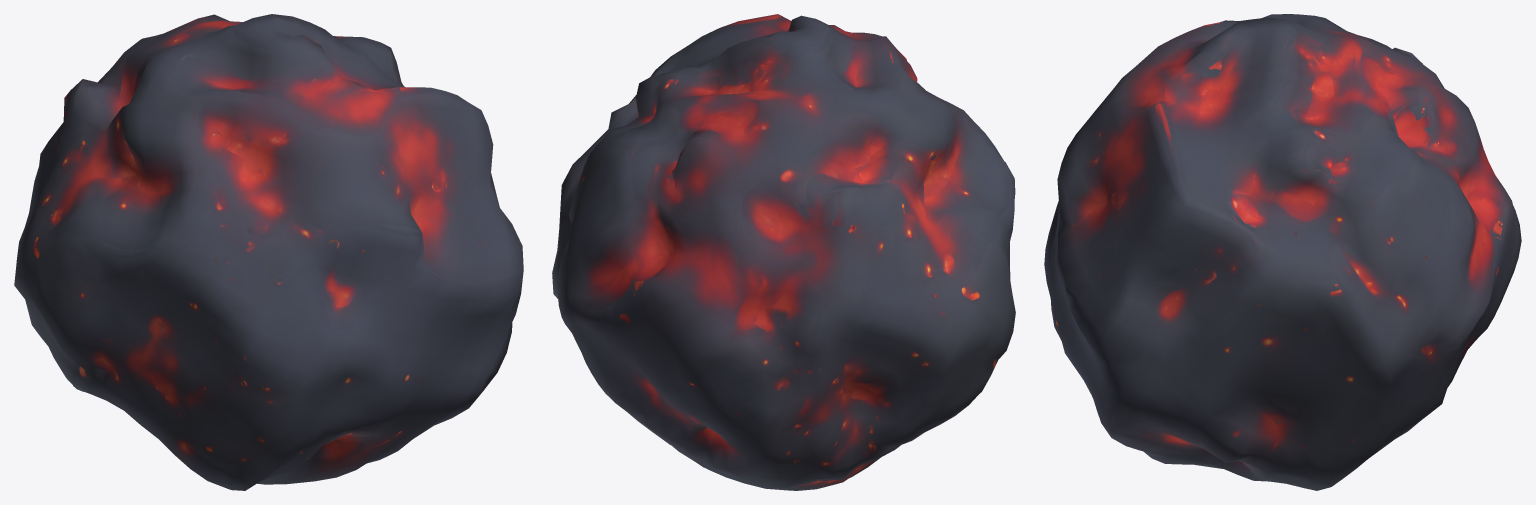
Rendered from Meteor.glb.
3 renders of one model, left to right at view 1: azimuth 30°, elevation 25°; view 2: azimuth 150°, elevation 25°; view 3: azimuth 270°, elevation 25°, orthographic.
Parts seen in each view (by area): view 1: Meteor; view 2: Meteor; view 3: Meteor.
Boxes of the visible parts, bbox=[...] form: Meteor: bbox=[14, 14, 523, 490]; Meteor: bbox=[552, 14, 1015, 490]; Meteor: bbox=[1044, 14, 1521, 490].
Size of the model in its own units: 1.02 by 1.04 by 1.02.
1 material, 1 textured.
